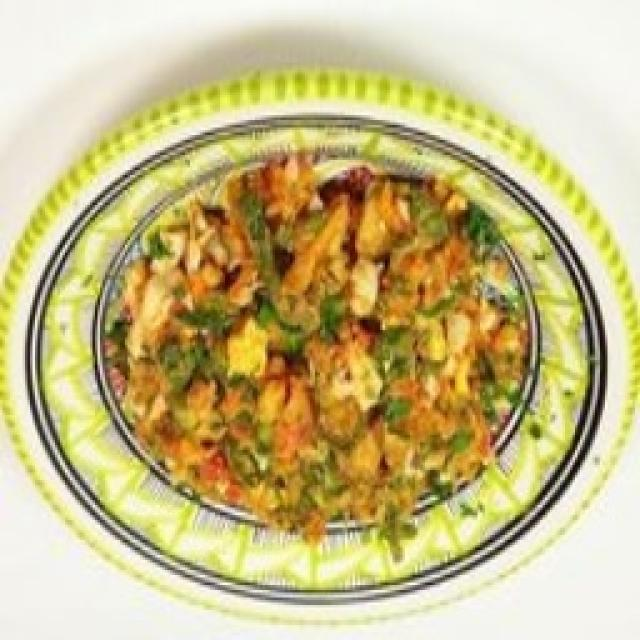Kafteji: (105, 154, 525, 559)
